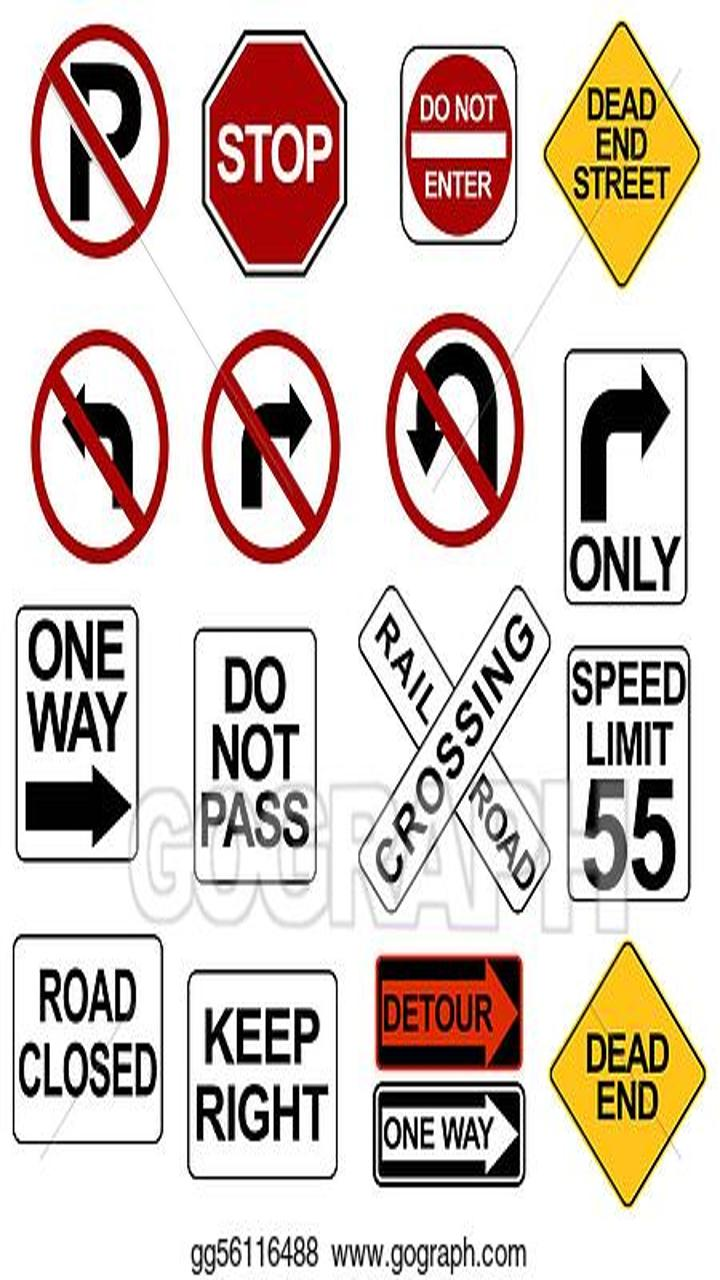Traffic sign: (507, 618, 720, 954), (347, 579, 559, 915), (543, 925, 720, 1231), (368, 911, 545, 1217), (172, 913, 349, 1219), (7, 898, 184, 1204), (163, 620, 330, 899), (1, 590, 167, 869), (188, 25, 355, 289), (364, 10, 531, 274), (543, 23, 710, 287), (10, 312, 177, 576), (199, 309, 366, 573), (377, 307, 544, 571), (527, 343, 694, 607), (15, 16, 178, 257)
